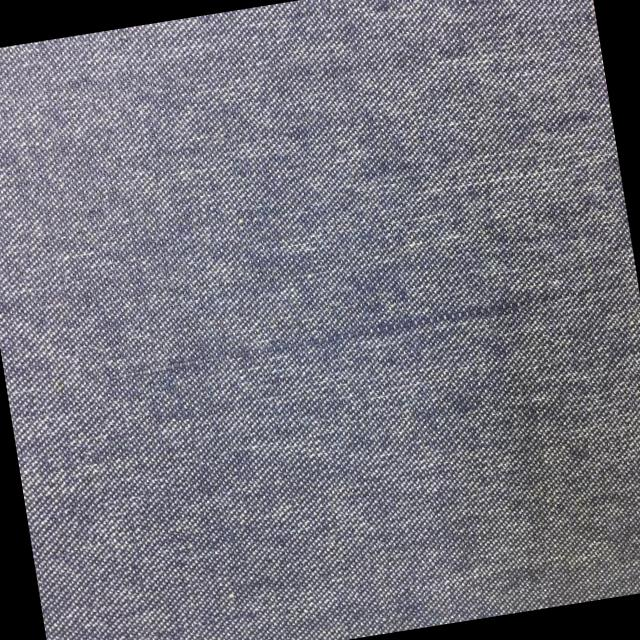Warp_Weft: (98, 295, 541, 383)
